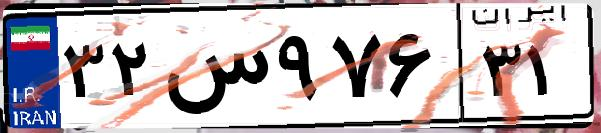1: (525, 38, 570, 115)
2: (110, 28, 158, 98)
3: (57, 26, 110, 100), (475, 38, 525, 113)
6: (385, 28, 445, 110)
7: (330, 28, 385, 110)
9: (270, 28, 330, 110)
س: (158, 20, 270, 120)
